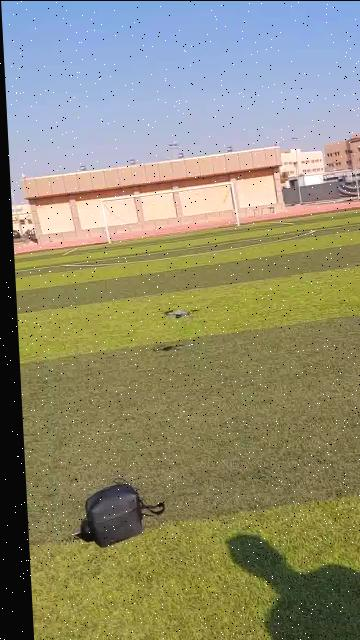drone: (152, 290, 199, 326)
